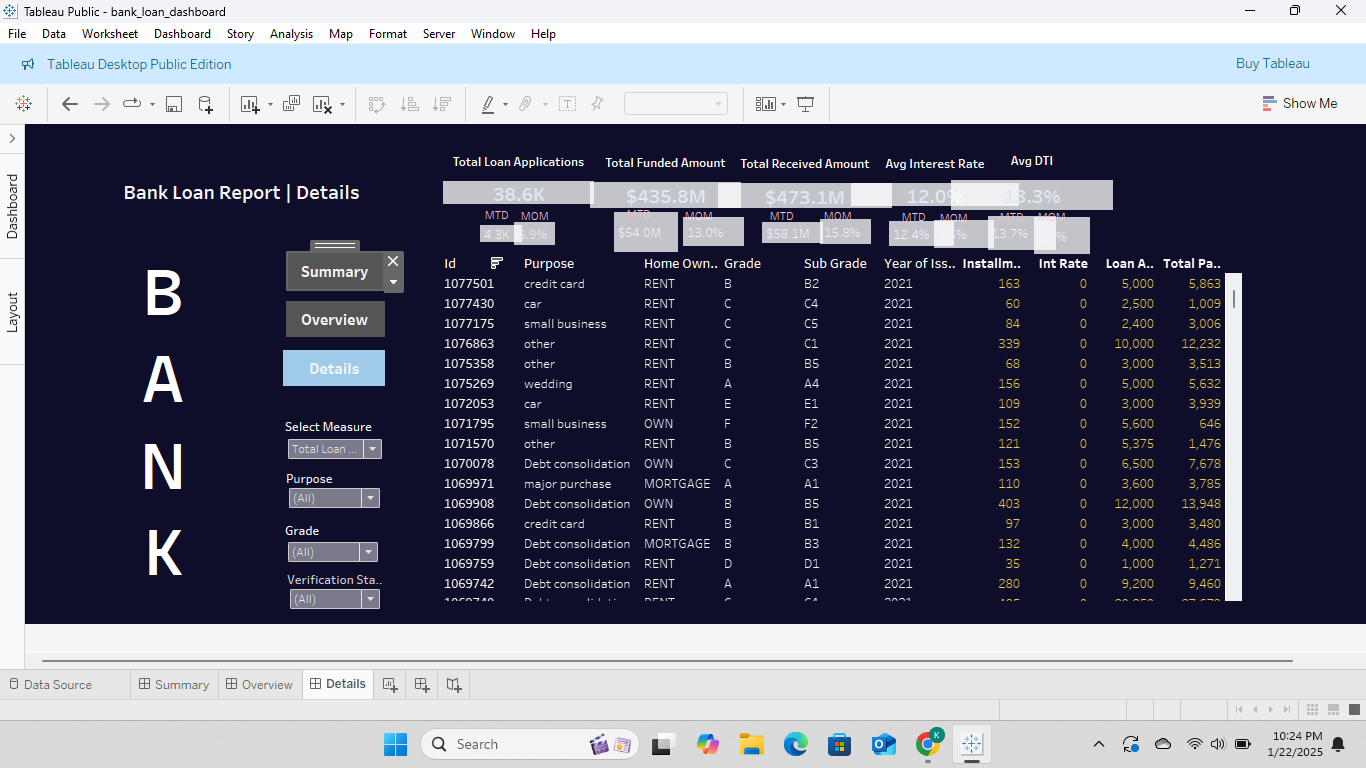

Layout of this report page (visuals, bound fields, positions):
{"tool":"tableau","page":{"name":"Details","canvas":[1400,500],"ordinal":0},"visuals":[{"type":"worksheet","title":"avg DTI","mark":"Automatic","box":[926,24,162,62]},{"type":"worksheet","title":"total_loan_applications","mark":"Automatic","box":[418,25,151,55]},{"type":"worksheet","title":"total_funded_amount","mark":"Automatic","box":[565,26,151,58]},{"type":"worksheet","title":"total_amount_received","mark":"Automatic","box":[693,27,174,57]},{"type":"worksheet","title":"avg interest rate","mark":"Automatic","box":[826,27,168,55]},{"type":"text","box":[74,52,285,30]},{"type":"text","box":[599,80,33,20]},{"type":"text","box":[457,81,34,20]},{"type":"text","box":[493,82,34,20]},{"type":"text","box":[657,82,33,20]},{"type":"text","box":[742,82,33,20]},{"type":"text","box":[796,82,33,20]},{"type":"text","box":[874,83,34,20]},{"type":"text","box":[972,83,34,20]},{"type":"text","box":[1010,83,33,20]},{"type":"text","box":[912,84,33,20]},{"type":"worksheet","title":"MTD total funded amount","mark":"Automatic","box":[589,88,64,40]},{"type":"worksheet","title":"MTD avg DTI","mark":"Automatic","box":[963,92,68,34]},{"type":"worksheet","title":"MoM total funded amount","mark":"Automatic","box":[658,93,61,29]},{"type":"worksheet","title":"MoM avg dti","mark":"Automatic","box":[1009,93,56,37]},{"type":"worksheet","title":"MoM total amount received","mark":"Automatic","box":[795,95,51,25]},{"type":"worksheet","title":"MoM avg in rate","mark":"Automatic","box":[909,96,60,28]},{"type":"worksheet","title":"MTD avg interest rate","mark":"Automatic","box":[864,97,65,25]},{"type":"worksheet","title":"MoM Loan Applications","mark":"Automatic","box":[489,98,41,23]},{"type":"worksheet","title":"MTD total amount received","mark":"Automatic","box":[737,98,61,21]},{"type":"worksheet","title":"MTD Loan Applications","mark":"Automatic","box":[455,101,42,17]},{"type":"text","box":[44,112,188,367]},{"type":"dashboard-object","box":[263,129,95,36]},{"type":"worksheet","title":"details tab","mark":"Automatic","rows":["id","purpose","home_ownership","grade","sub_grade","issue_date"],"box":[413,129,804,348]},{"type":"dashboard-object","box":[261,177,99,36]},{"type":"dashboard-object","box":[258,226,102,36]},{"type":"parameter","param":"[Parameters].[Parameter 1]","box":[260,294,100,45]},{"type":"filter","title":"MTD Loan Applications","param":"[federated.0u4nhs11hb3evv12lf0sh1rm0hka].[none:purpose:nk]","box":[261,346,97,39]},{"type":"filter","title":"MTD Loan Applications","param":"[federated.0u4nhs11hb3evv12lf0sh1rm0hka].[none:grade:nk]","box":[260,398,96,42]},{"type":"filter","title":"MTD Loan Applications","param":"[federated.0u4nhs11hb3evv12lf0sh1rm0hka].[none:verification_status:nk]","box":[262,447,96,38]}]}

Visuals, with their boxes on the page's 1400x500 design canvas (x1, y1, x2, y2). These are canvas units, not pixel positions in the 1366x768 screenshot, which may show the page scaled, cropped or inside an application window:
"avg DTI" worksheet: region(926, 24, 1088, 86)
"total_loan_applications" worksheet: region(418, 25, 569, 80)
"total_funded_amount" worksheet: region(565, 26, 716, 84)
"total_amount_received" worksheet: region(693, 27, 867, 84)
"avg interest rate" worksheet: region(826, 27, 994, 82)
text: region(74, 52, 359, 82)
text: region(599, 80, 632, 100)
text: region(457, 81, 491, 101)
text: region(493, 82, 527, 102)
text: region(657, 82, 690, 102)
text: region(742, 82, 775, 102)
text: region(796, 82, 829, 102)
text: region(874, 83, 908, 103)
text: region(972, 83, 1006, 103)
text: region(1010, 83, 1043, 103)
text: region(912, 84, 945, 104)
"MTD total funded amount" worksheet: region(589, 88, 653, 128)
"MTD avg DTI" worksheet: region(963, 92, 1031, 126)
"MoM total funded amount" worksheet: region(658, 93, 719, 122)
"MoM avg dti" worksheet: region(1009, 93, 1065, 130)
"MoM total amount received" worksheet: region(795, 95, 846, 120)
"MoM avg in rate" worksheet: region(909, 96, 969, 124)
"MTD avg interest rate" worksheet: region(864, 97, 929, 122)
"MoM Loan Applications" worksheet: region(489, 98, 530, 121)
"MTD total amount received" worksheet: region(737, 98, 798, 119)
"MTD Loan Applications" worksheet: region(455, 101, 497, 118)
text: region(44, 112, 232, 479)
dashboard-object: region(263, 129, 358, 165)
"details tab" worksheet: region(413, 129, 1217, 477)
dashboard-object: region(261, 177, 360, 213)
dashboard-object: region(258, 226, 360, 262)
parameter: region(260, 294, 360, 339)
"MTD Loan Applications" filter: region(261, 346, 358, 385)
"MTD Loan Applications" filter: region(260, 398, 356, 440)
"MTD Loan Applications" filter: region(262, 447, 358, 485)
